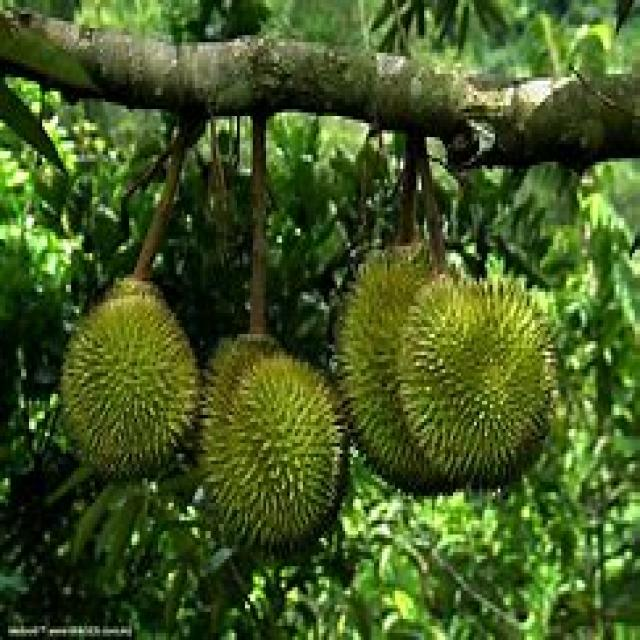immature: (197, 334, 354, 554), (394, 272, 558, 475), (62, 279, 203, 488)
